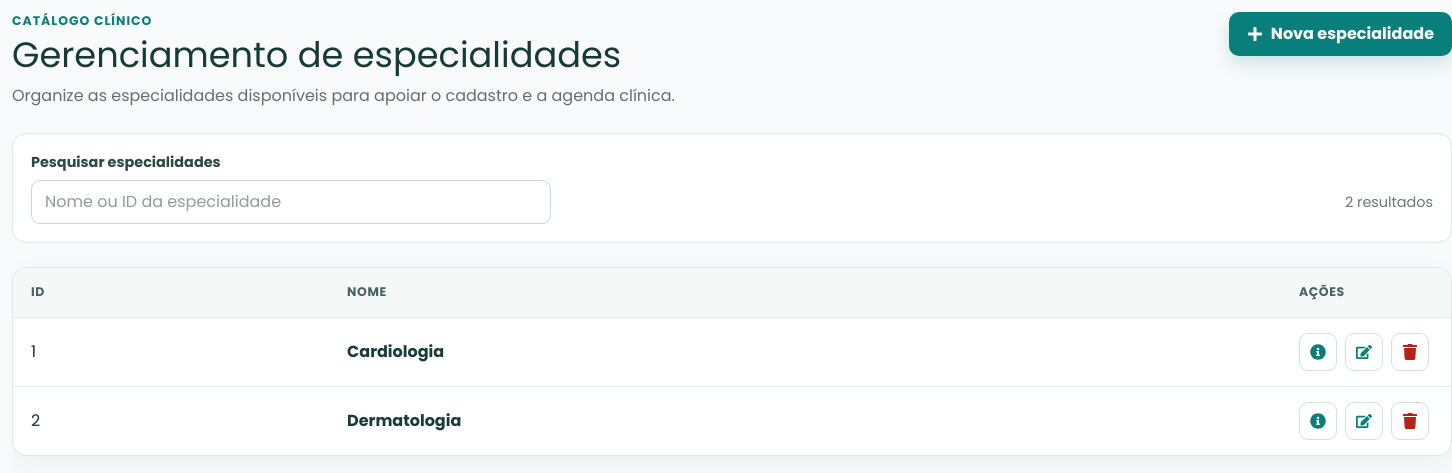
Test: SpecialtyList › filtra especialidades pelo ID
The width and height of the screenshot is (1452, 473).
In the search field labelled "Pesquisar especialidades": [291, 202] box [31,180,551,224], type "2"
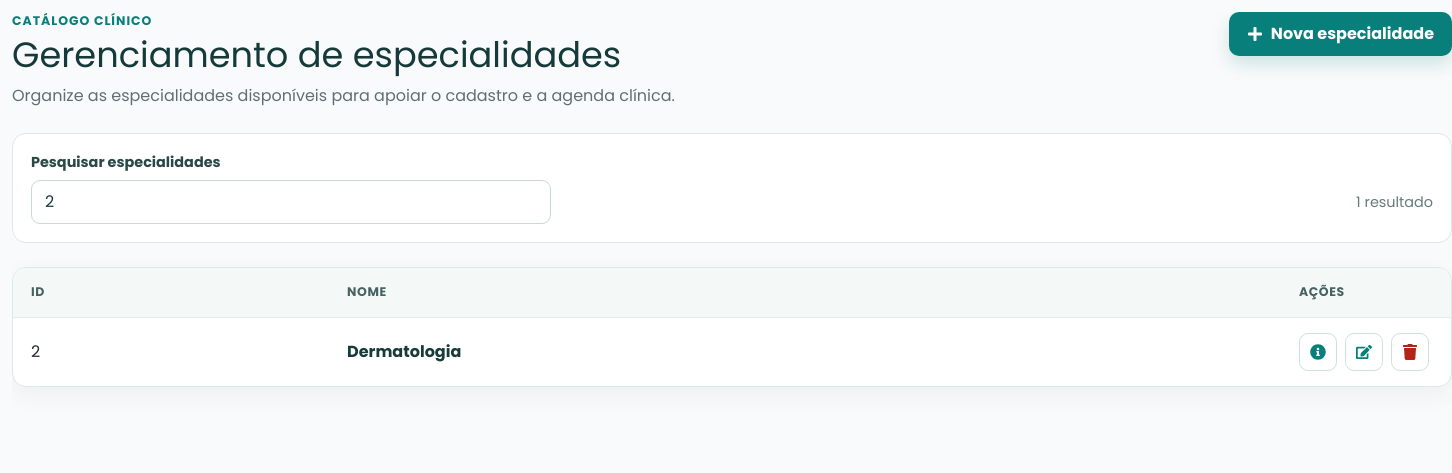
Expected: the text "Dermatologia" is shown, [347,340,461,363]
Result: the text "Cardiologia" is gone
